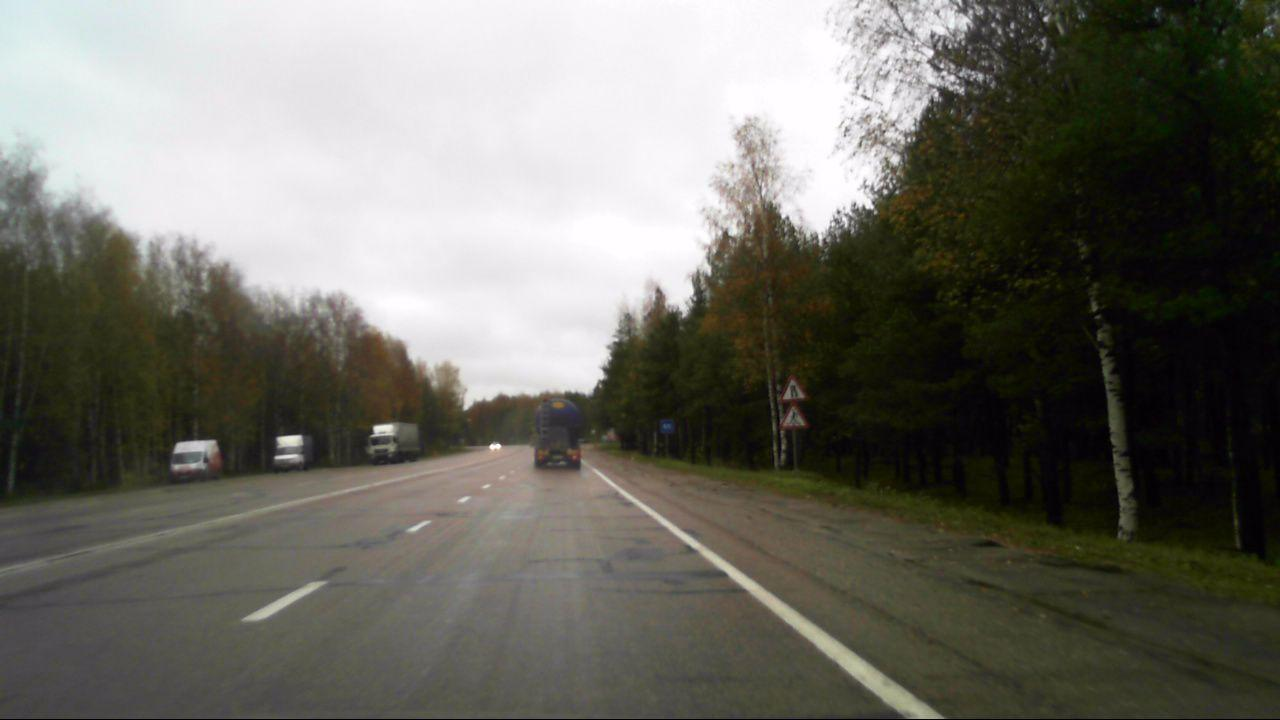road_sign: (777, 370, 814, 402), (776, 400, 815, 430)
